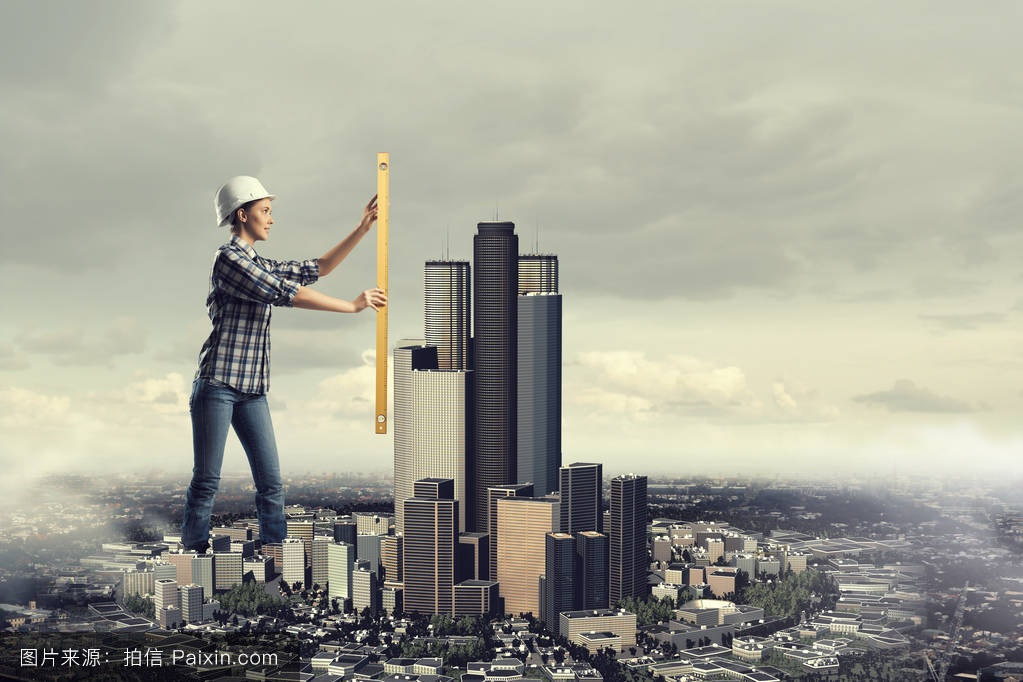white: (212, 175, 272, 243)
